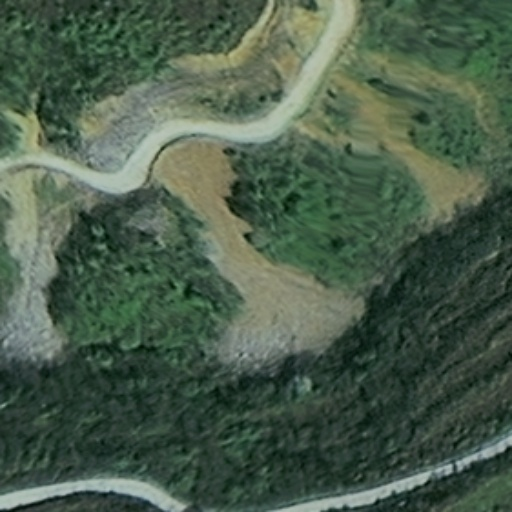landslide: (154, 139, 358, 354), (357, 52, 488, 221)
